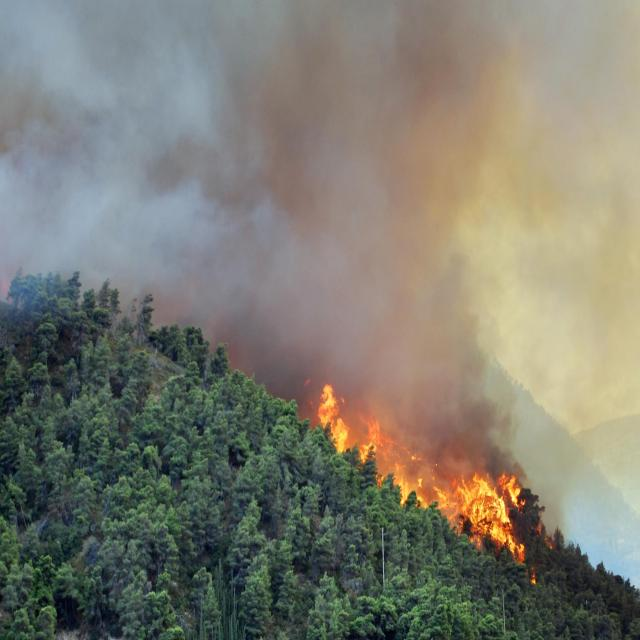Fire: (317, 378, 556, 599)
Smoke: (0, 0, 589, 510)
